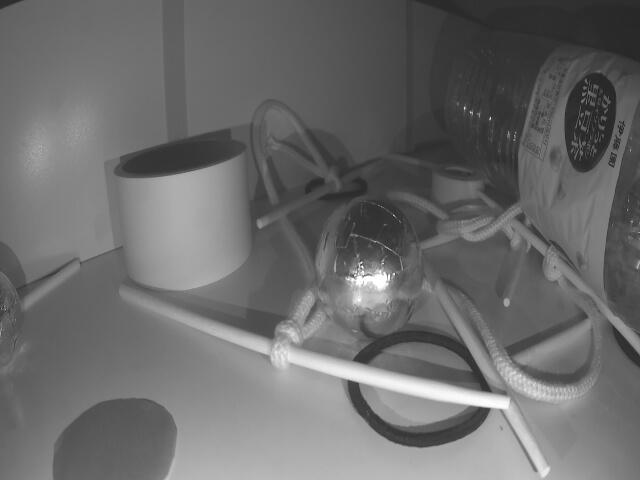Live: (316, 199, 424, 338)
